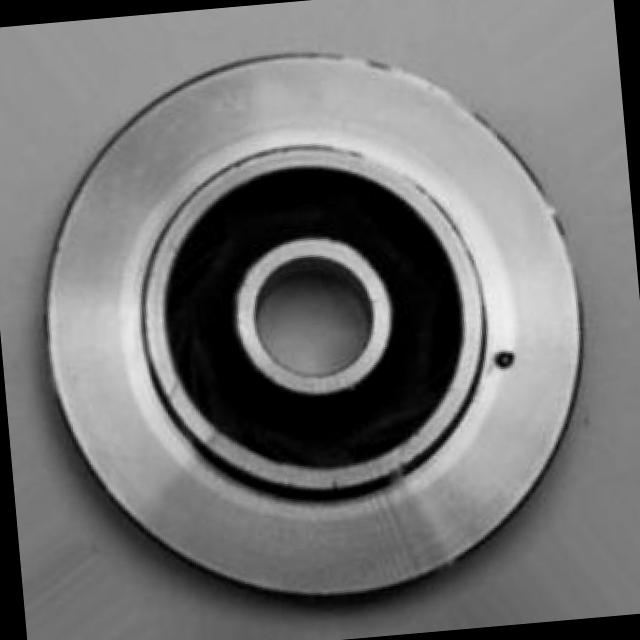Defect: (487, 338, 523, 383)
